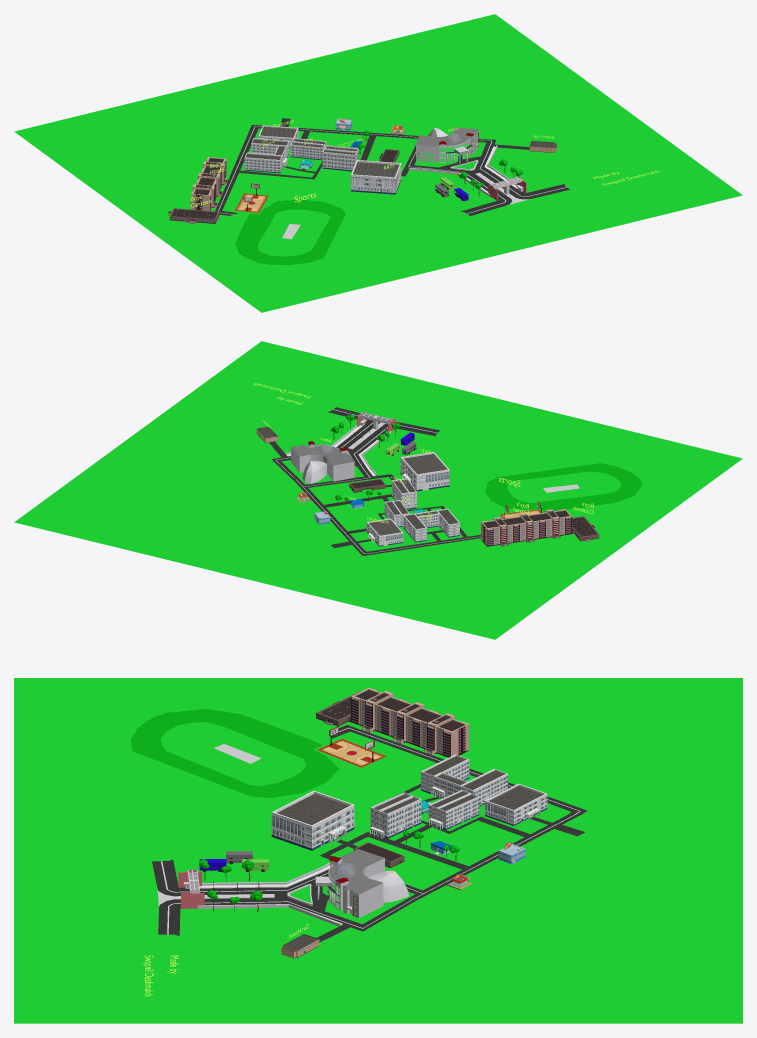
Rendered from sggs5.2d3094ba.glb.
The picture shows the model from 3 angles, top to bottom: view 1: azimuth 30°, elevation 25°; view 2: azimuth 150°, elevation 25°; view 3: azimuth 270°, elevation 25°; orthographic projection. The views are drawn at different scales.
Visible parts, largest first — view 1: Ground, Road, Admin sggs, Entc, Object_5.003, Textile.003, Textile, Object_10.007, Production, cixil, Textile.001; view 2: Ground, Road, Admin sggs, Object_5.003, Entc, Object_6.002, Production, Textile.001; view 3: Ground, Road, Admin sggs, Object_5.003, Entc, Production, Object_6.002, Textile.002, Textile.004, Textile.003, Basketball, Textile.001 (+6 smaller).
Part boxes in pixels (left/top/right/bottom): Ground: left=14, top=14, right=742, bottom=312; Road: left=215, top=118, right=569, bottom=215; Admin sggs: left=416, top=127, right=478, bottom=162; Entc: left=351, top=160, right=401, bottom=194; Object_5.003: left=189, top=157, right=228, bottom=210; Textile.003: left=244, top=152, right=282, bottom=173; Textile: left=322, top=148, right=356, bottom=171; Object_10.007: left=169, top=208, right=219, bottom=223; Production: left=258, top=125, right=298, bottom=148; cixil: left=290, top=141, right=324, bottom=160; Textile.001: left=251, top=138, right=288, bottom=157; Ground: left=14, top=341, right=742, bottom=639; Road: left=269, top=407, right=480, bottom=555; Admin sggs: left=291, top=441, right=354, bottom=483; Object_5.003: left=481, top=509, right=571, bottom=546; Entc: left=400, top=452, right=449, bottom=491; Object_6.002: left=503, top=509, right=569, bottom=542; Production: left=366, top=518, right=403, bottom=546; Textile.001: left=403, top=513, right=426, bottom=542; Ground: left=14, top=678, right=742, bottom=1023; Road: left=152, top=725, right=587, bottom=942; Admin sggs: left=315, top=849, right=408, bottom=917; Object_5.003: left=351, top=687, right=469, bottom=757; Entc: left=271, top=790, right=354, bottom=850; Production: left=485, top=783, right=547, bottom=825; Object_6.002: left=351, top=689, right=440, bottom=751; Textile.002: left=379, top=795, right=421, bottom=838; Textile.004: left=437, top=793, right=479, bottom=829; Textile.003: left=421, top=754, right=469, bottom=794; Basketball: left=317, top=738, right=386, bottom=767; Textile.001: left=460, top=768, right=507, bottom=806.
Size of what is drawn, in the model's own units: 32.33 by 2.27 by 28.82.
Materials: 63 (13 with a texture image).
